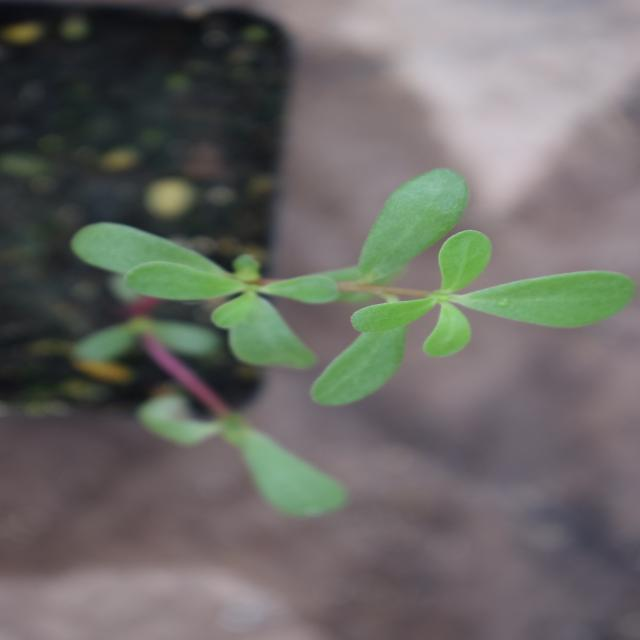purslane: (165, 2, 408, 550)
